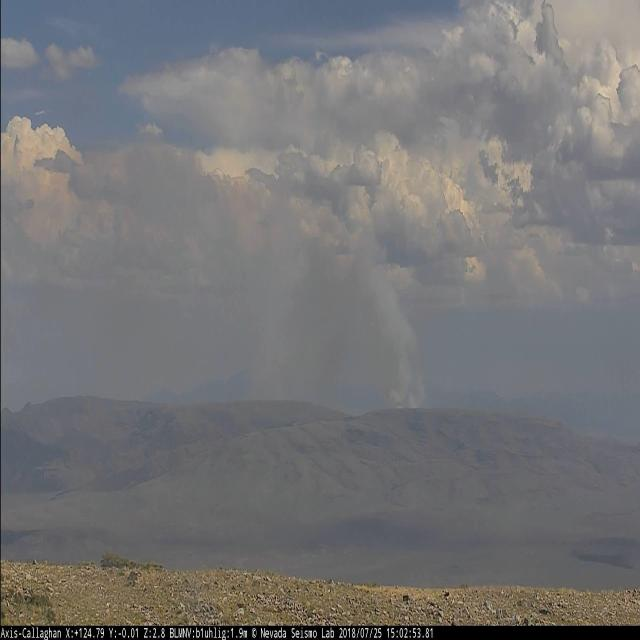smoke: (73, 147, 424, 412)
